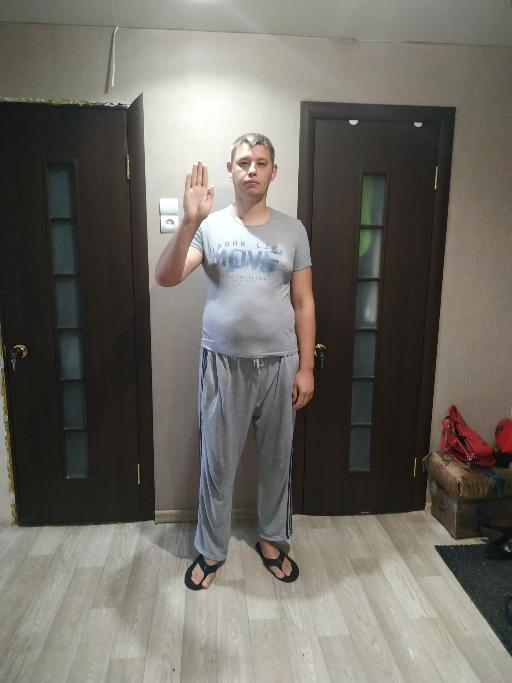no_gesture: (289, 366, 315, 411)
stop: (180, 159, 215, 224)
